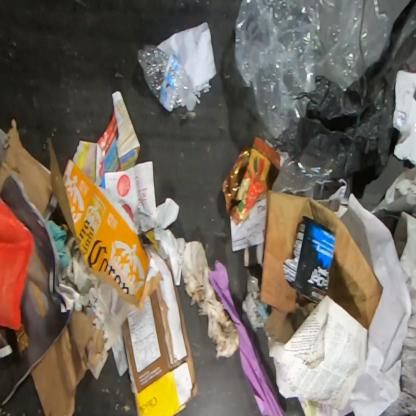cardboard: (48, 139, 161, 309), (261, 190, 383, 330), (122, 230, 200, 416), (32, 306, 105, 415), (0, 119, 55, 217)
rigid_plastic: (138, 45, 196, 113)
soft_plastic: (273, 1, 415, 197), (233, 1, 413, 144), (268, 148, 334, 198)
